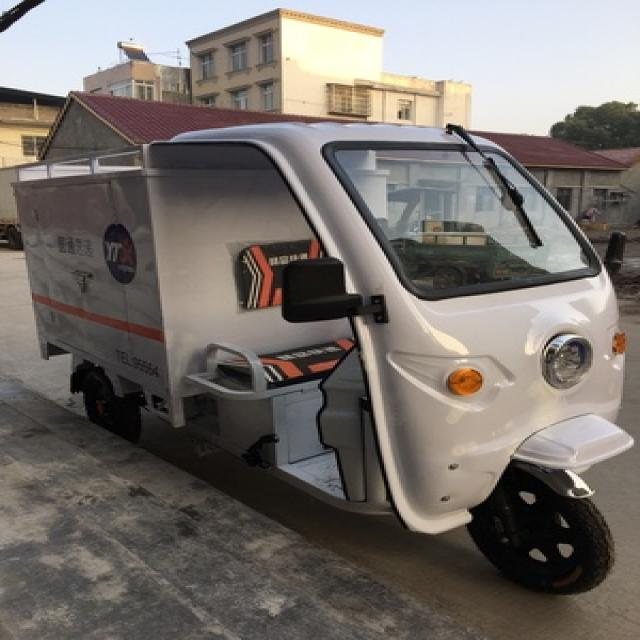tricycle: (9, 123, 636, 592)
